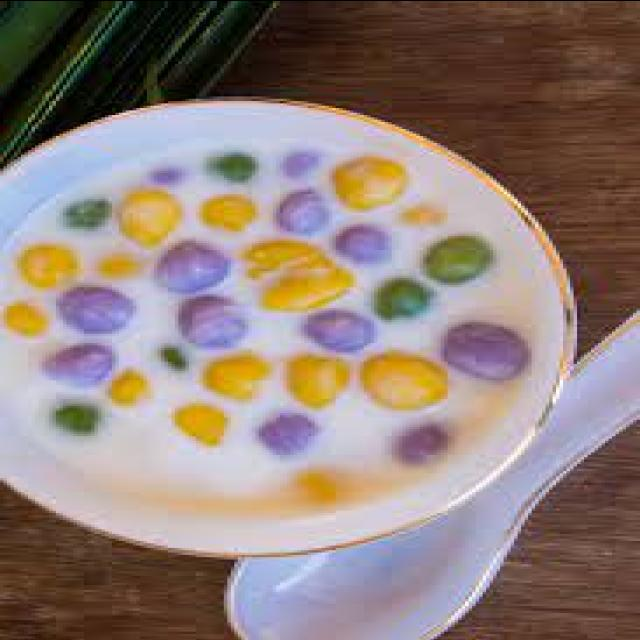Bualoy: (3, 97, 569, 562)
